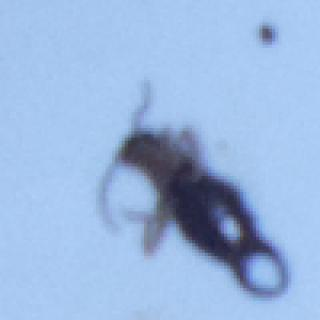earwig: (93, 76, 296, 300)
